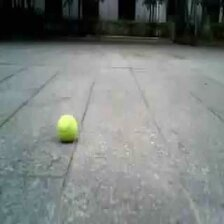tennis: (56, 114, 77, 140)
